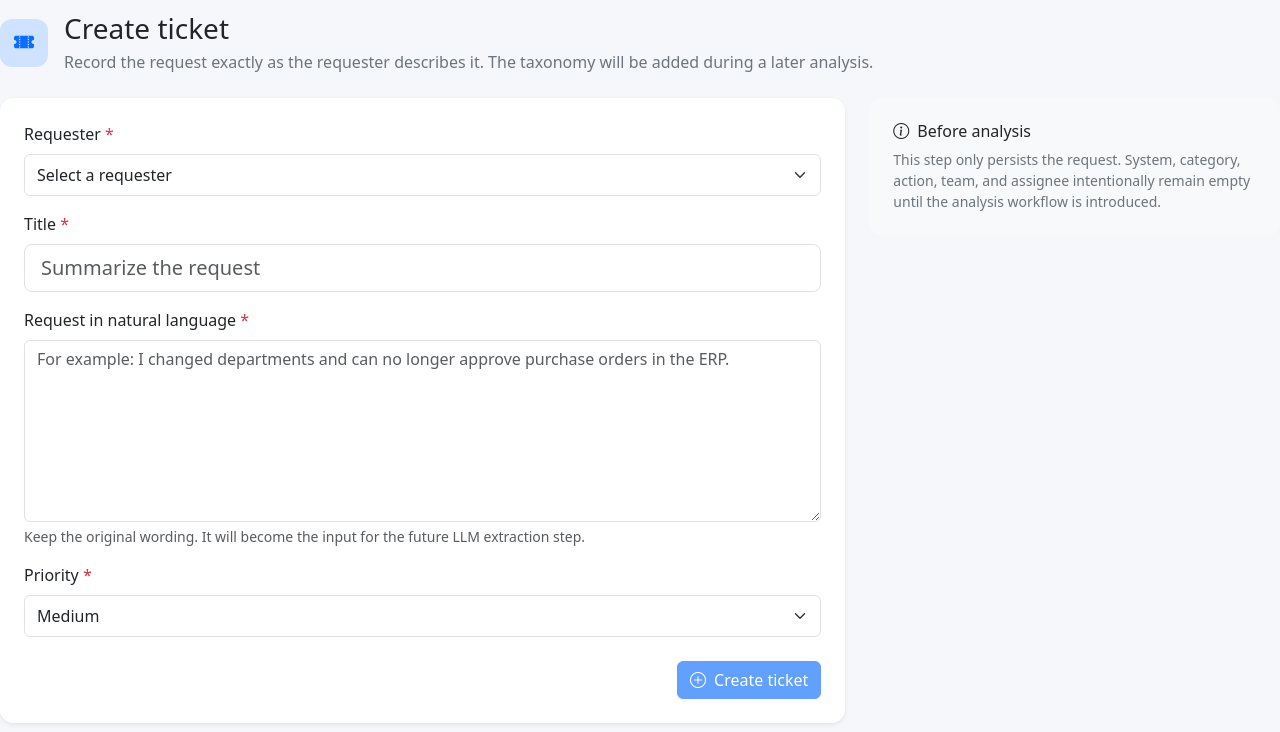
Test: creates a ticket from the natural-language request
Expected: the button "Create ticket" is disabled, [677, 661, 821, 699]
Select "João — Purchasing" in the dropdown labelled "Requester *": coordinates (423, 175) [24, 154, 821, 196]
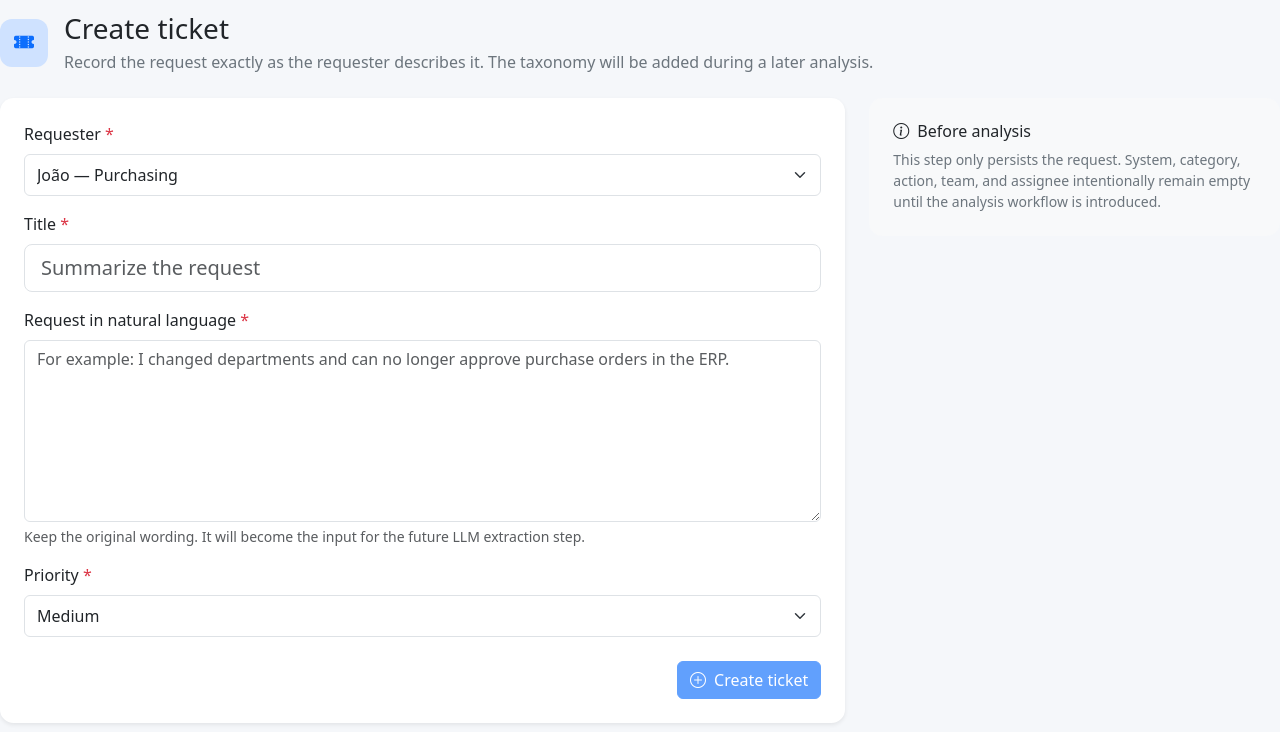
In the field labelled "Title *": coordinates (423, 268) [24, 244, 821, 292], type "Cannot approve purchases"
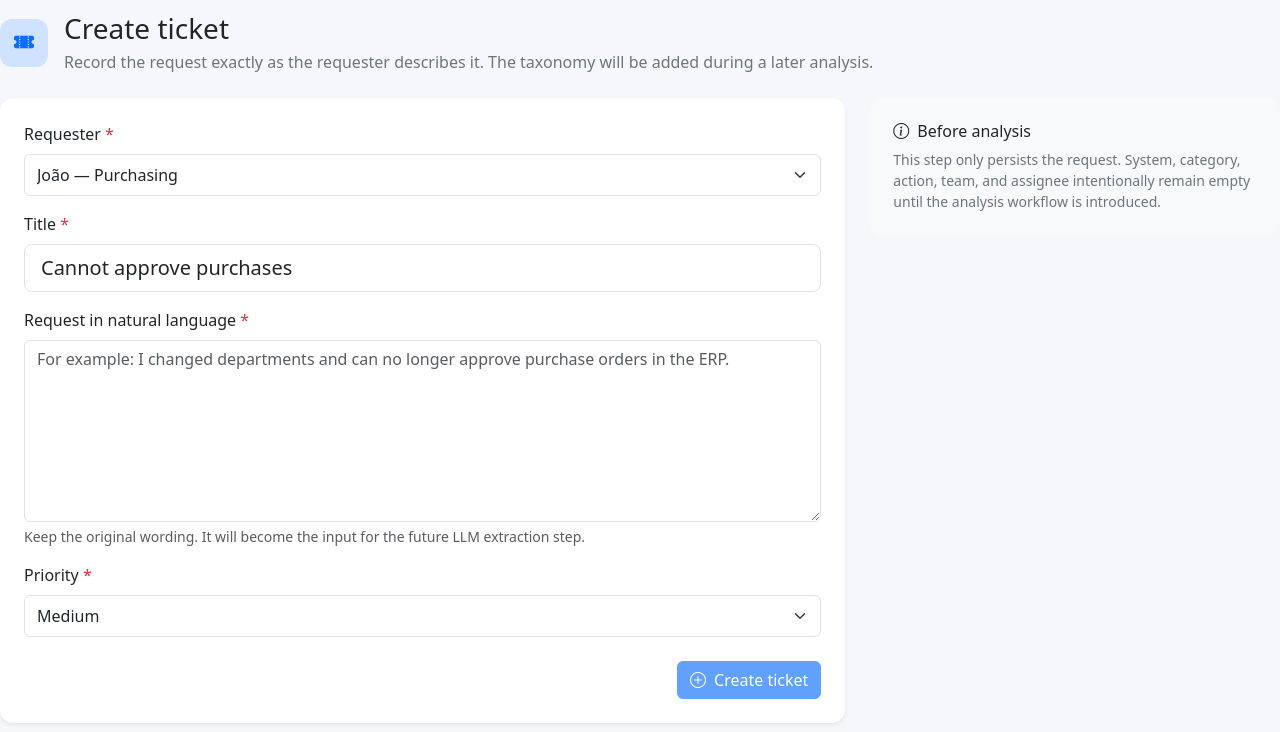
Replace the text in the text box labelled "Request in natural language *" with "I changed departments and can no longer approve purchases.": coordinates (423, 431) [24, 340, 821, 522]
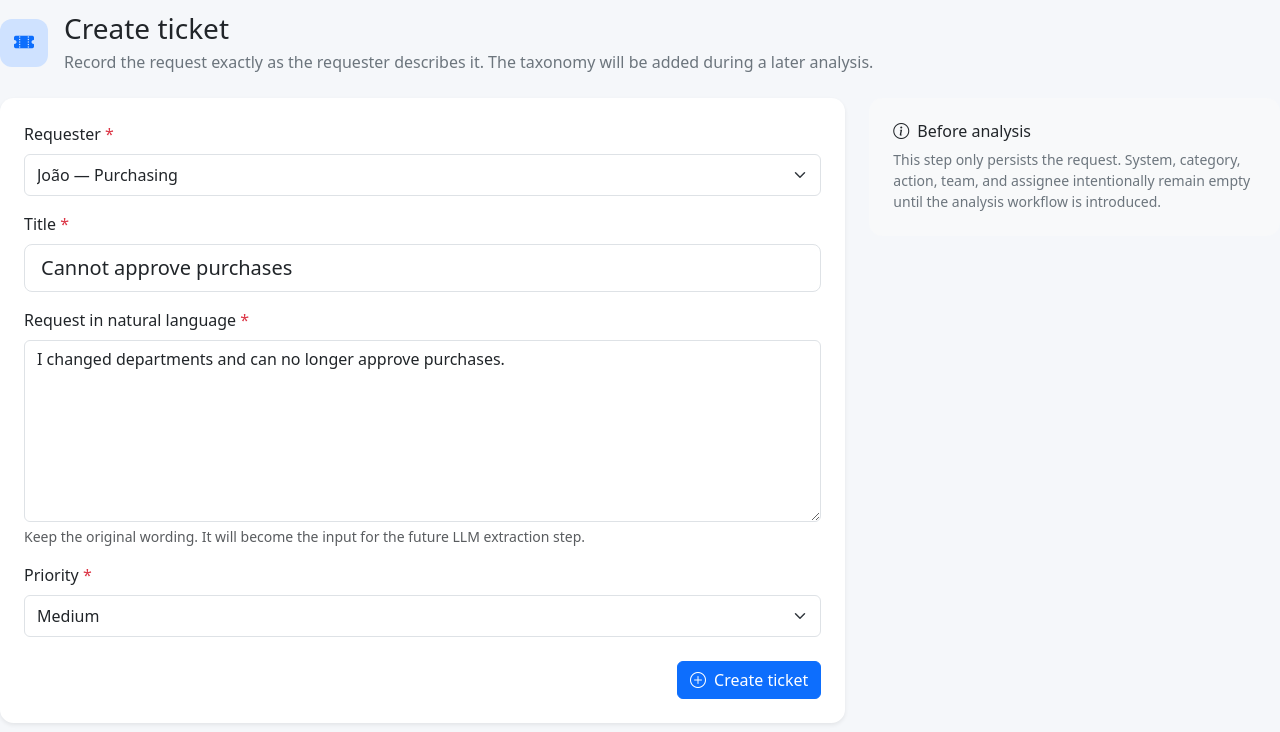
Expected: the button "Create ticket" is enabled, [677, 661, 821, 699]
Submit the form named "Create ticket", box [24, 122, 821, 699]
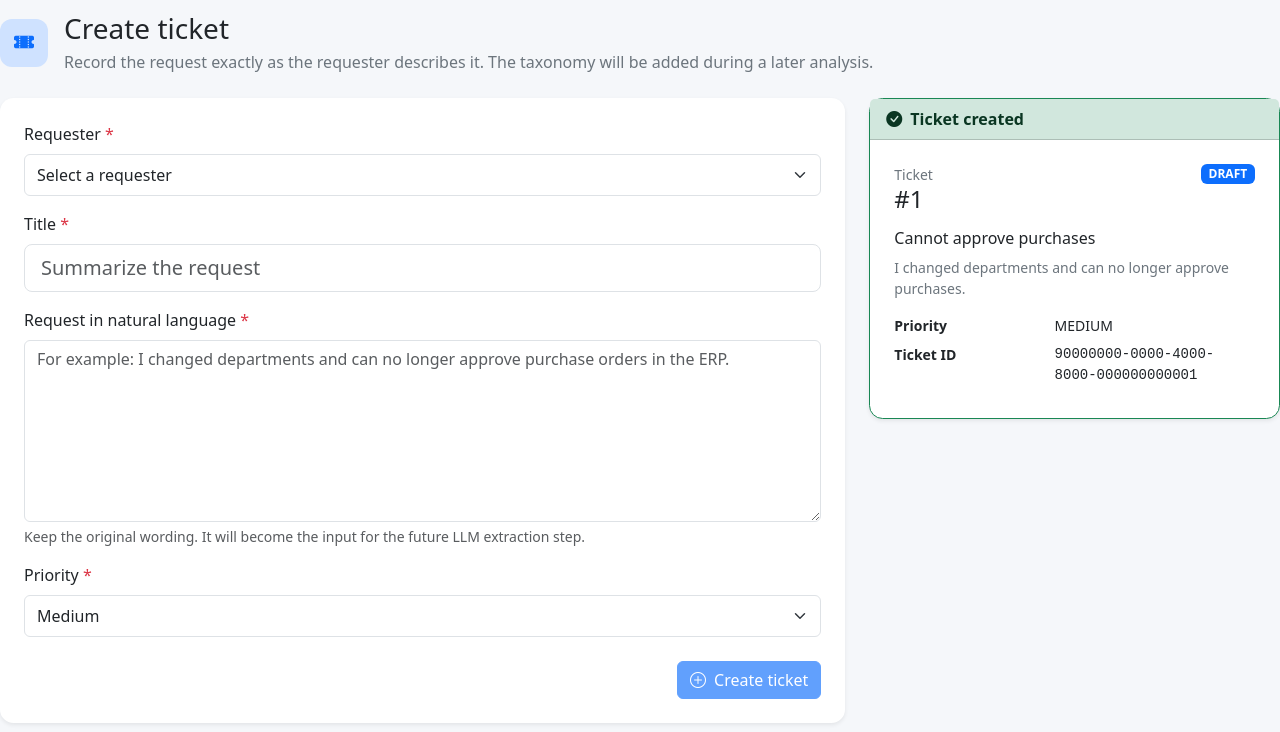
Expected: the text "Ticket created" is shown, [910, 107, 1024, 131]
Expected: the text "#1" is shown, [894, 182, 924, 215]
Expected: the field labelled "Title *" is empty, [24, 244, 821, 292]
